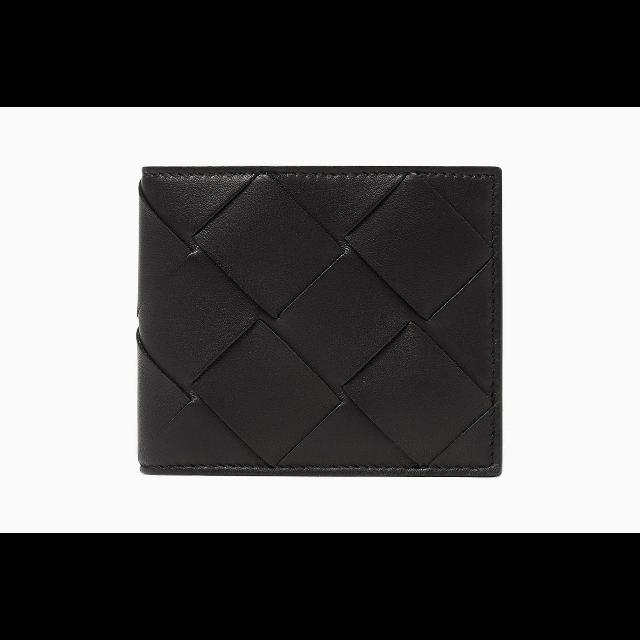wallet: (138, 164, 504, 478)
